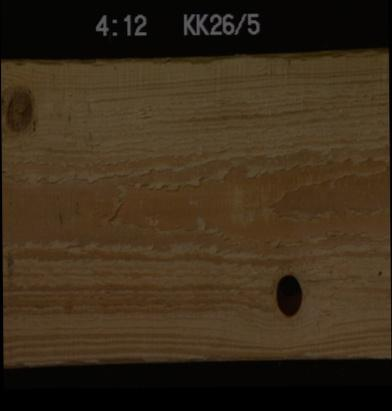sound_knot: (0, 82, 34, 137)
wave: (0, 48, 388, 74)
